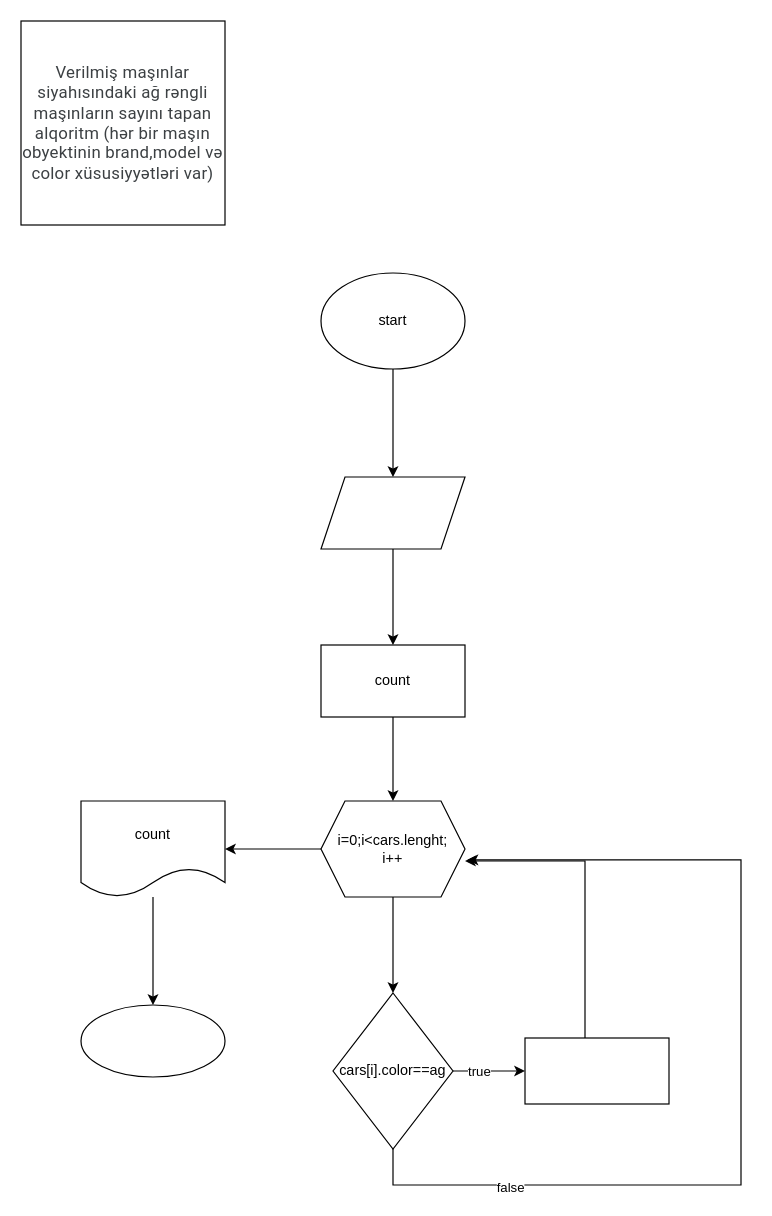
Image size: 772x1216. Some labels were removed from this diagram. The centre of each missing label's shape, as x and y in pixels:
Cars: (x=392, y=512)
count++: (x=596, y=1070)
end: (x=152, y=1040)
